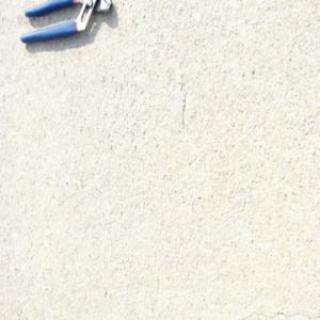Pliertrack_idkeyframe: (18, 0, 112, 45)
